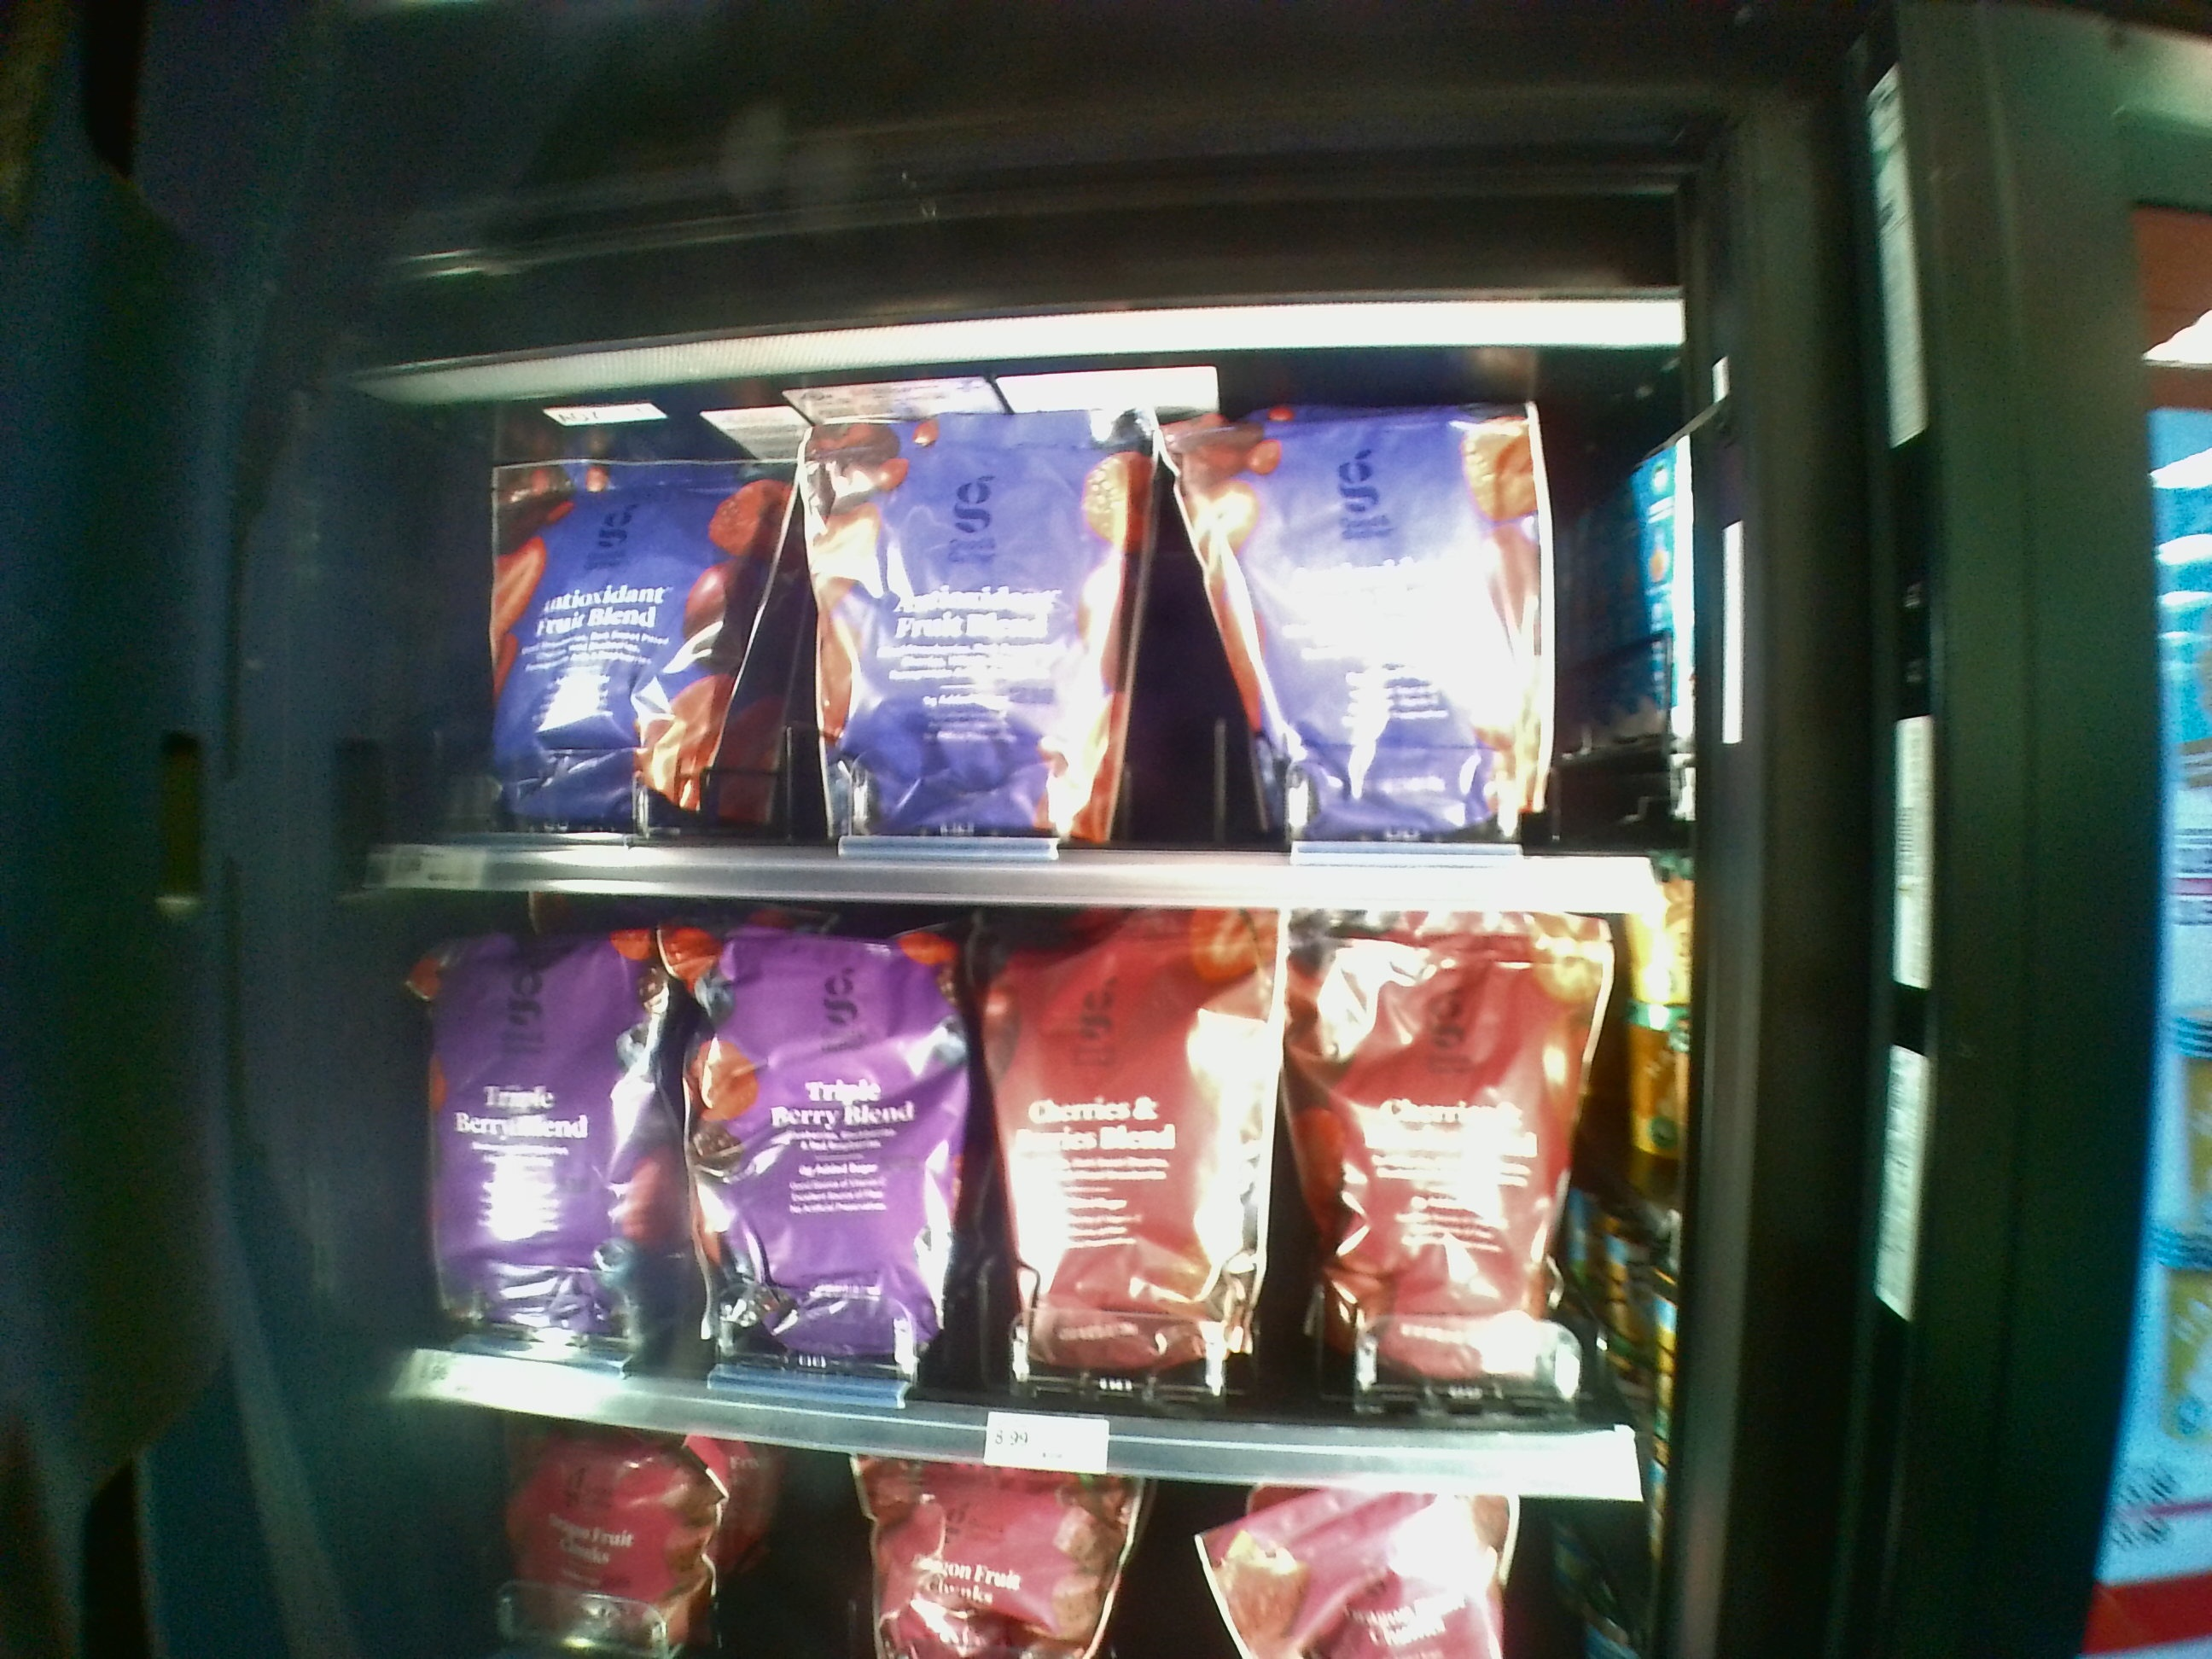shelf: (395, 901, 1639, 1495), (371, 383, 1679, 910)
